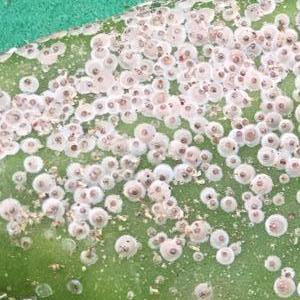Femea: (10, 66, 78, 113), (110, 0, 188, 39), (254, 111, 299, 176), (207, 51, 260, 106), (146, 128, 196, 184), (256, 13, 299, 77), (120, 39, 186, 78), (77, 80, 139, 121), (72, 32, 118, 78), (188, 9, 240, 47), (208, 113, 252, 157), (70, 188, 118, 227), (141, 80, 179, 128), (13, 35, 63, 65)
